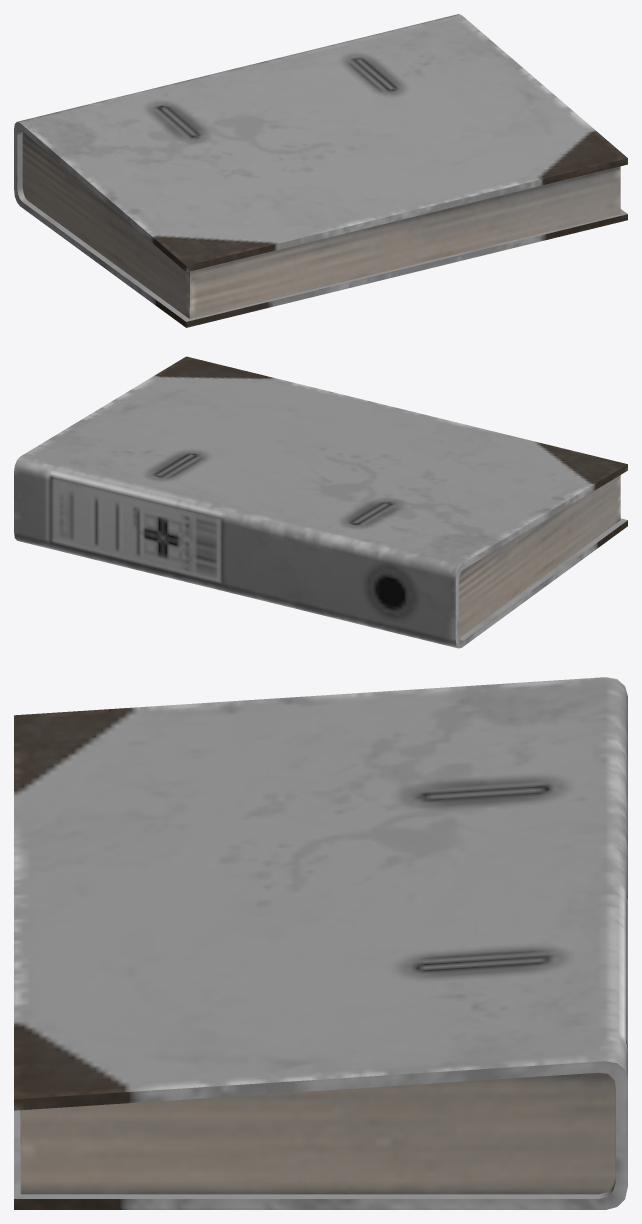
Rendered from HH_Registrar_Folder_03.fbx.
The picture shows the model from 3 angles, top to bottom: view 1: azimuth 30°, elevation 25°; view 2: azimuth 150°, elevation 25°; view 3: azimuth 270°, elevation 25°; orthographic projection. The views are drawn at different scales.
Visible parts, largest first — view 1: HH_Registrar_Folder_03; view 2: HH_Registrar_Folder_03; view 3: HH_Registrar_Folder_03.
Boxes of the visible parts, bbox=[...] form: HH_Registrar_Folder_03: bbox=[14, 14, 627, 327]; HH_Registrar_Folder_03: bbox=[14, 356, 627, 648]; HH_Registrar_Folder_03: bbox=[14, 677, 627, 1209].
Size of the model in its own units: 46.94 by 8.47 by 31.71.
